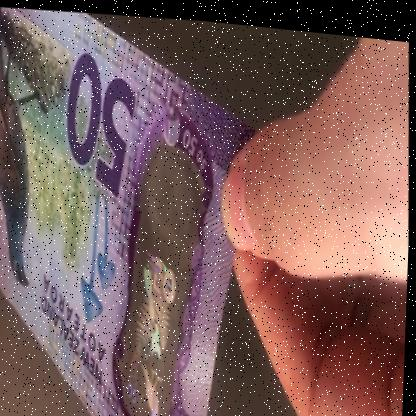50B: (118, 142, 202, 415)
